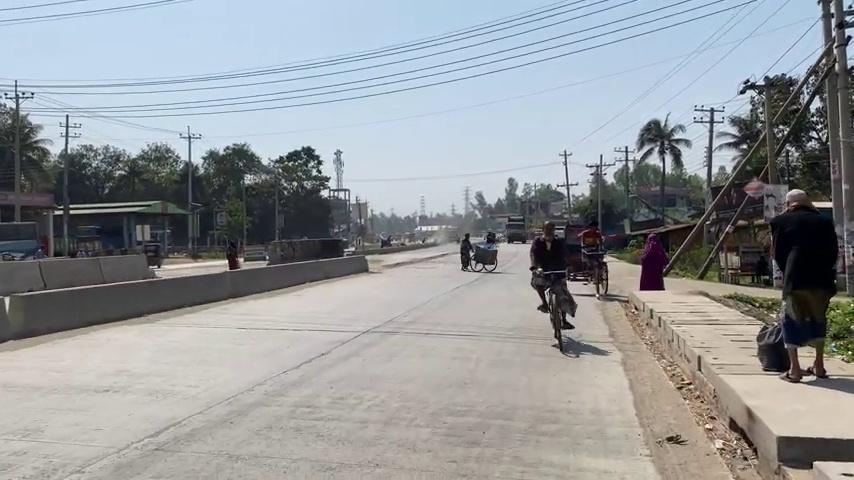Construction-barrier: (755, 322, 791, 371)
Fence: (768, 188, 838, 382), (529, 220, 576, 329), (638, 232, 669, 290), (577, 219, 605, 282), (459, 232, 475, 270)
Garbage: (817, 0, 853, 295)
Obstacle: (0, 251, 280, 342)
Railroad-crossing: (634, 111, 692, 224)
